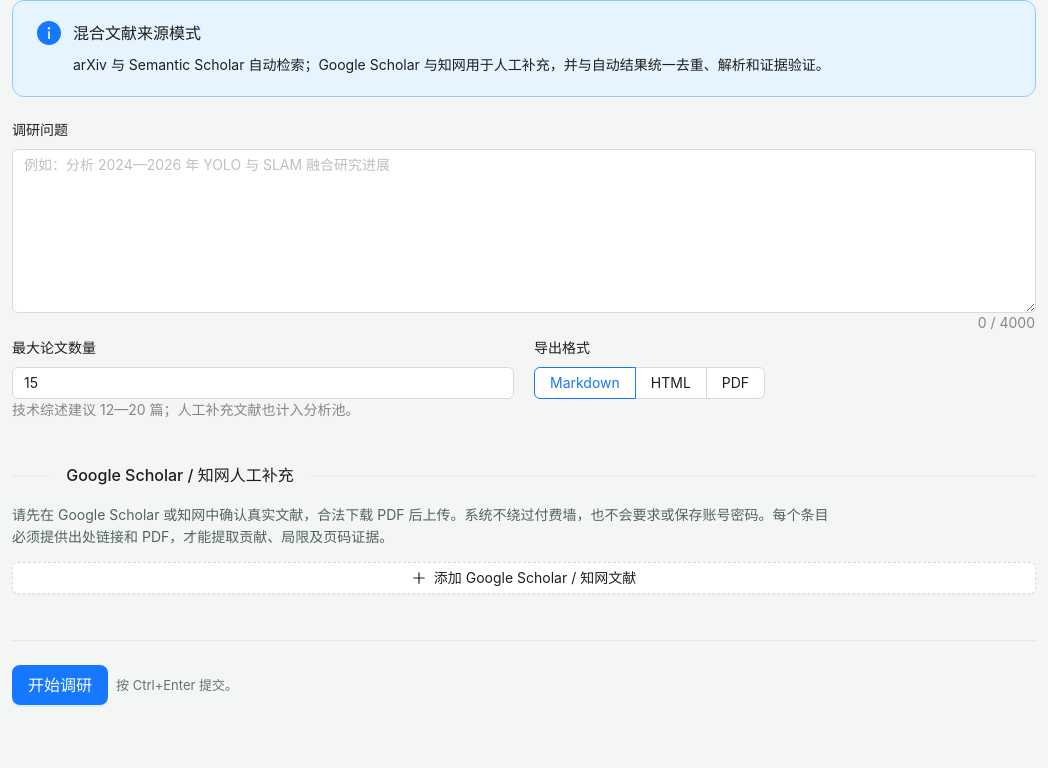
Scenario: ResearchForm › maps Host unavailability to a safe startup instruction
In the text box labelled "调研问题": (524, 231) left=13, top=150, right=1035, bottom=312, type "Evidence research question"
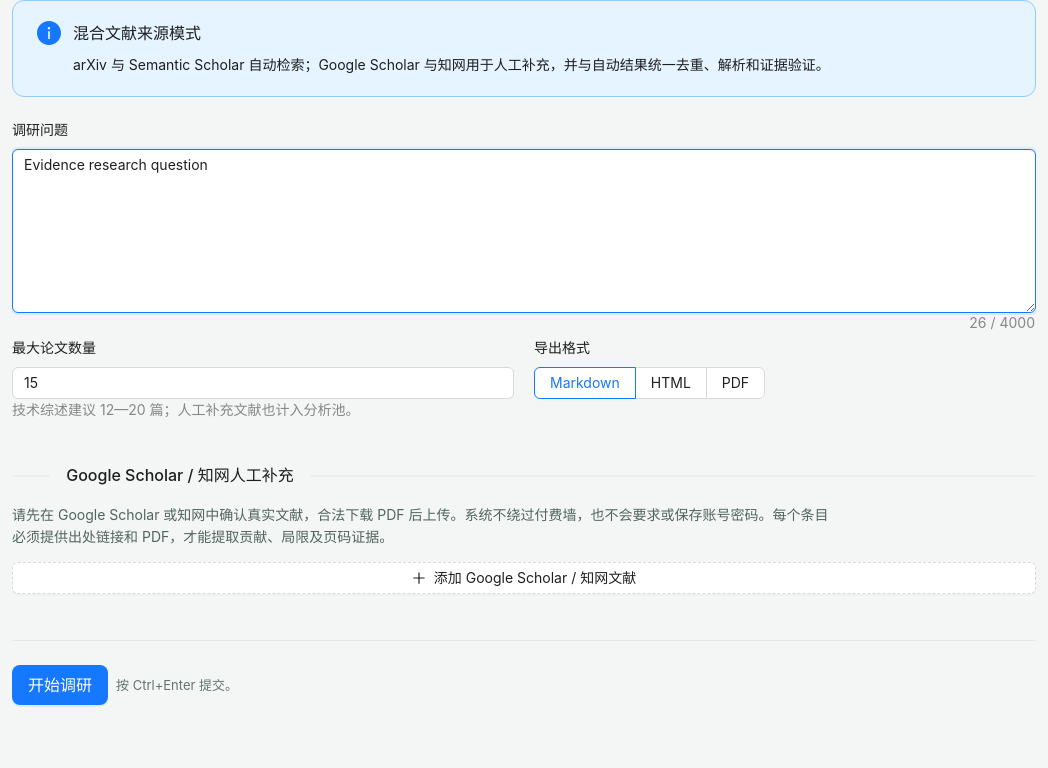
Click the button "开始调研": (60, 685) left=12, top=665, right=108, bottom=705
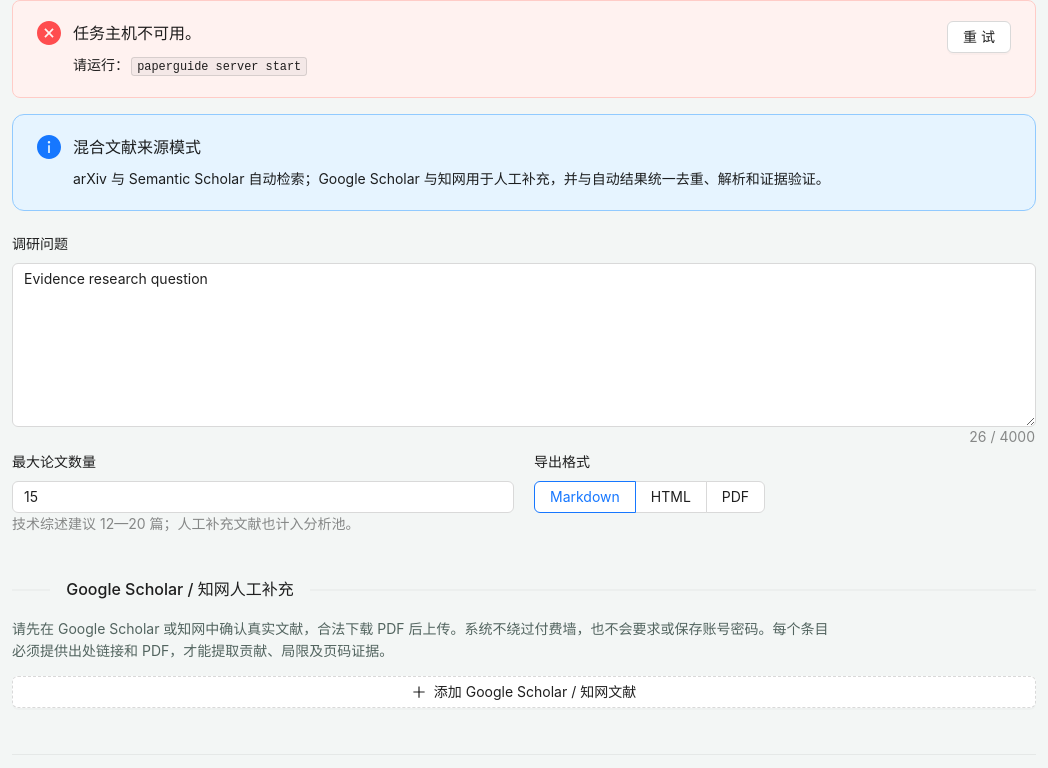
Check: the text "任务主机不可用。" is shown, box left=73, top=23, right=201, bottom=43
Check: the text "paperguide server start" is shown, box left=131, top=57, right=307, bottom=76
